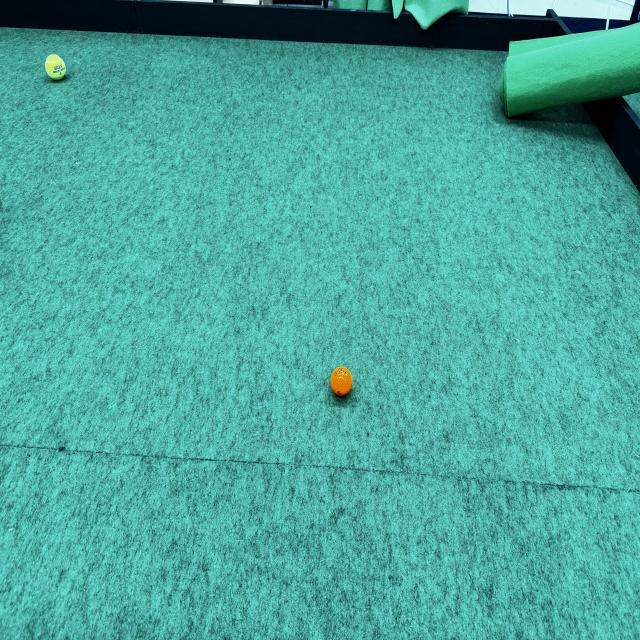ball: (331, 363, 355, 400)
